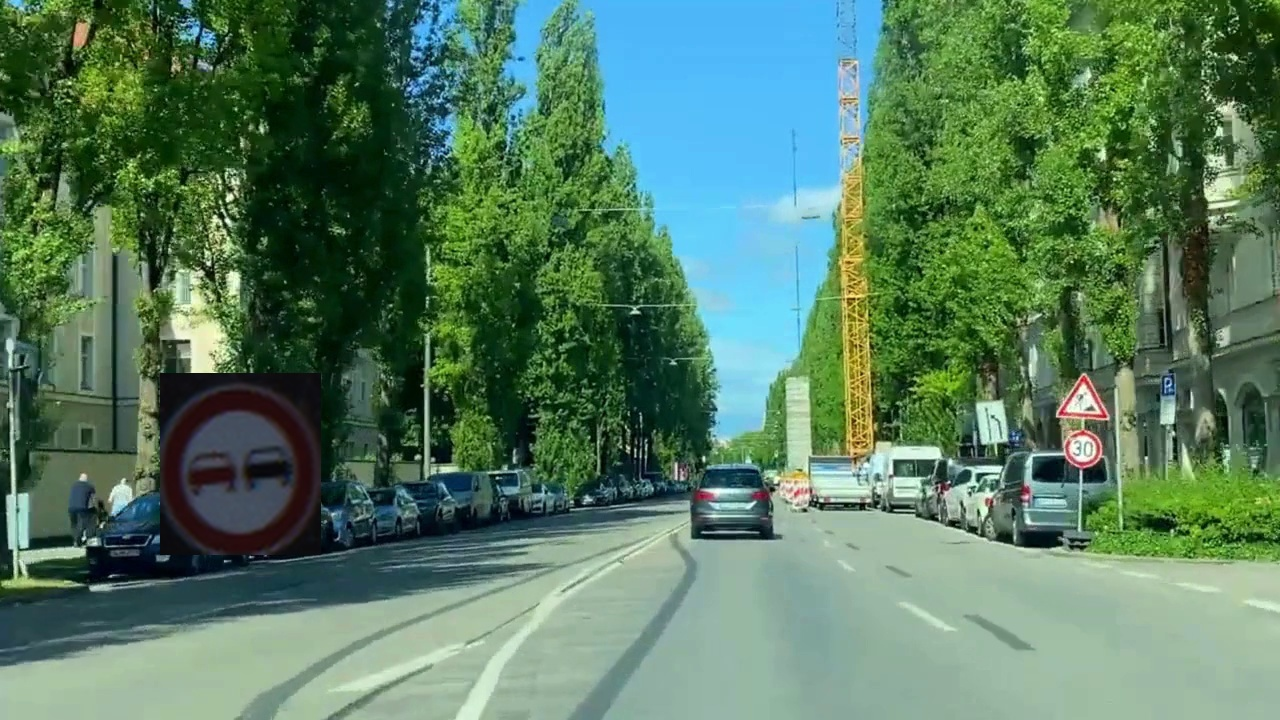No passing: (160, 373, 321, 555)
